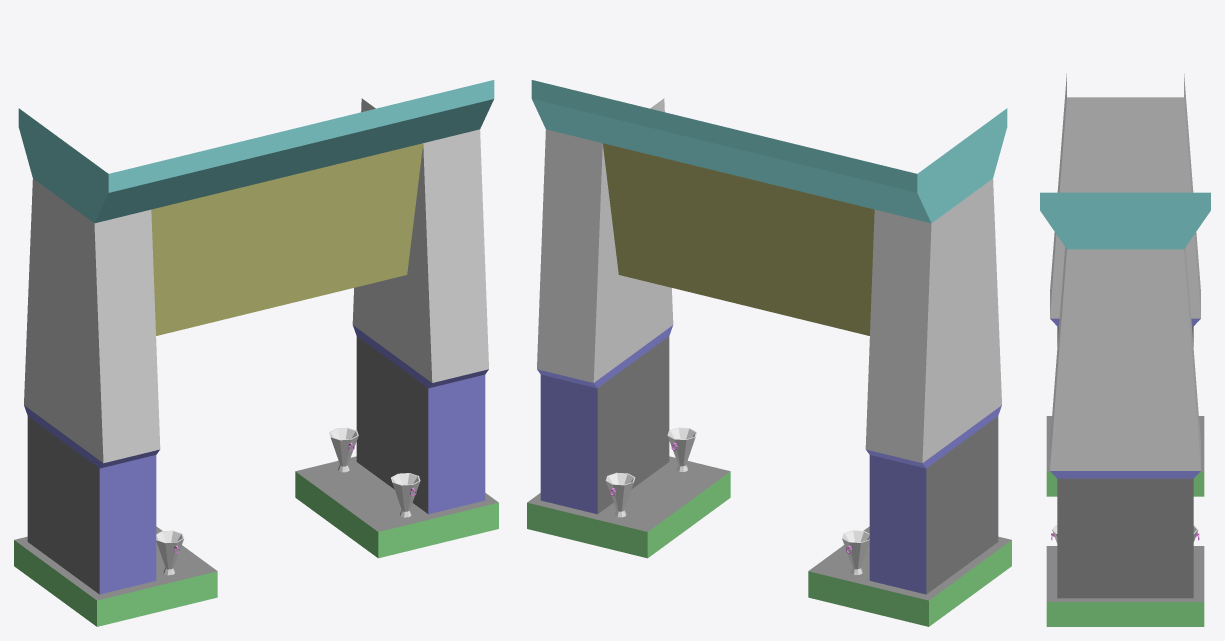
Rendered from SSQ_dungeon_S__SSQ_Room02_Gate.gltf.
3 views of the same model, side by side, from view 1: azimuth 30°, elevation 25°; view 2: azimuth 150°, elevation 25°; view 3: azimuth 270°, elevation 25° (orthographic). The views are drawn at different scales.
Visible parts, largest first — view 1: SSQ_Room02_Gate; view 2: SSQ_Room02_Gate; view 3: SSQ_Room02_Gate.
Part boxes in pixels (x1=…): SSQ_Room02_Gate: x1=14, y1=80, x2=498, y2=626; SSQ_Room02_Gate: x1=527, y1=80, x2=1011, y2=626; SSQ_Room02_Gate: x1=1040, y1=73, x2=1210, y2=626.
Size of the model in its own units: 3.61 by 3.89 by 1.4.
